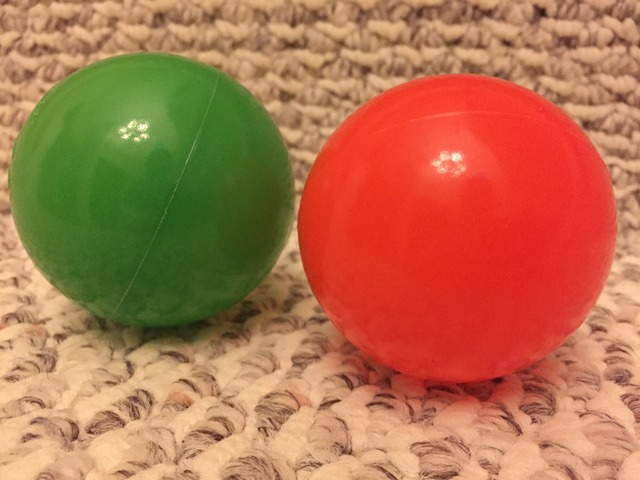Ball: (304, 72, 618, 393)
